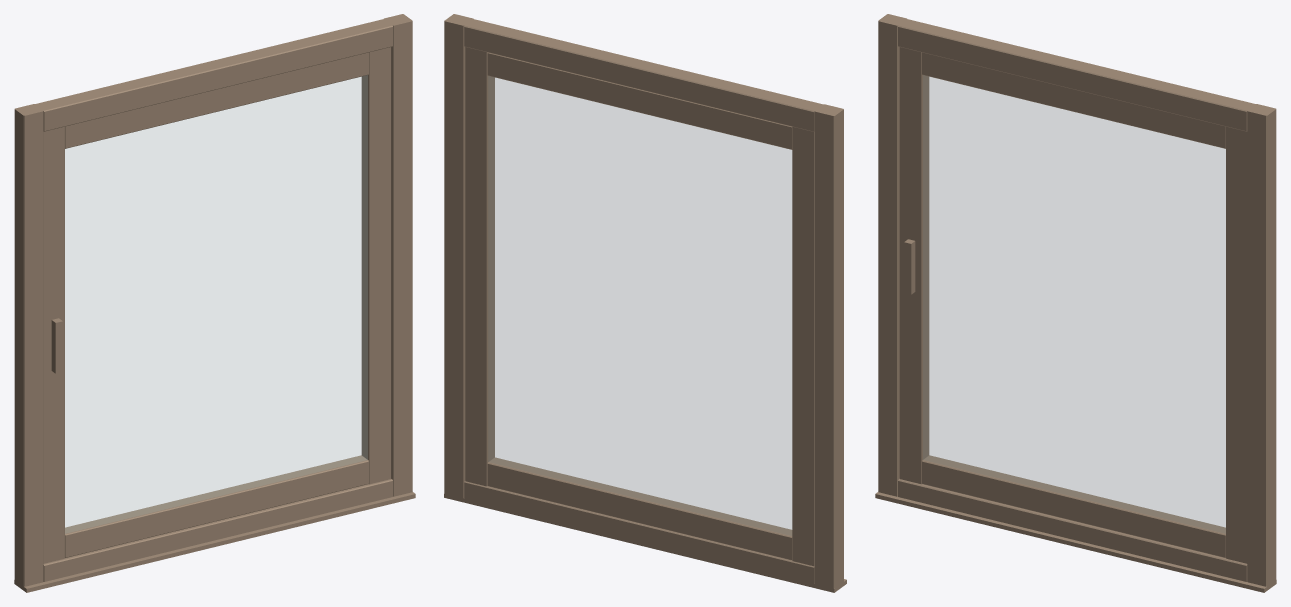
The model's file is bt-S53RP-1-ferme-quartz-1019.glb.
3 views of the same model, side by side, from view 1: azimuth 30°, elevation 25°; view 2: azimuth 150°, elevation 25°; view 3: azimuth 330°, elevation 25° (orthographic).
Visible parts, largest first — view 1: verre, structure; view 2: verre, structure; view 3: verre, structure.
Part boxes in pixels (x1,y1,x2,y2): verre: (65,75,367,533); structure: (14,14,415,592); verre: (488,76,791,535); structure: (444,14,846,592); verre: (923,75,1225,533); structure: (875,14,1276,592).
Bounding box in the file's own units: 1.2 × 1.4 × 0.0674.
